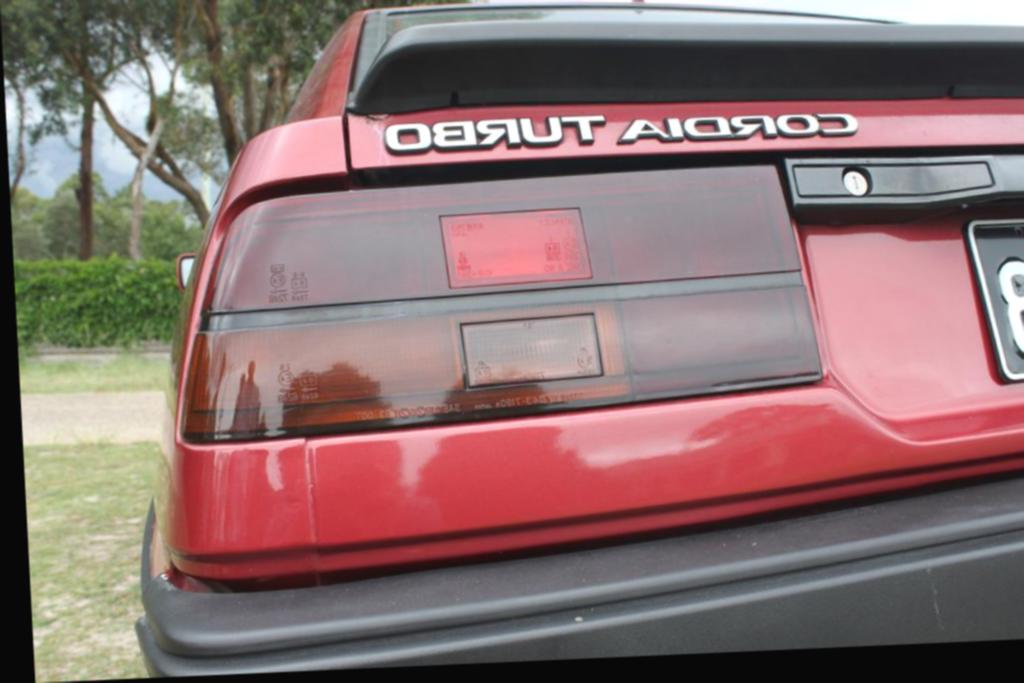License_Plate: (968, 213, 1024, 383)
